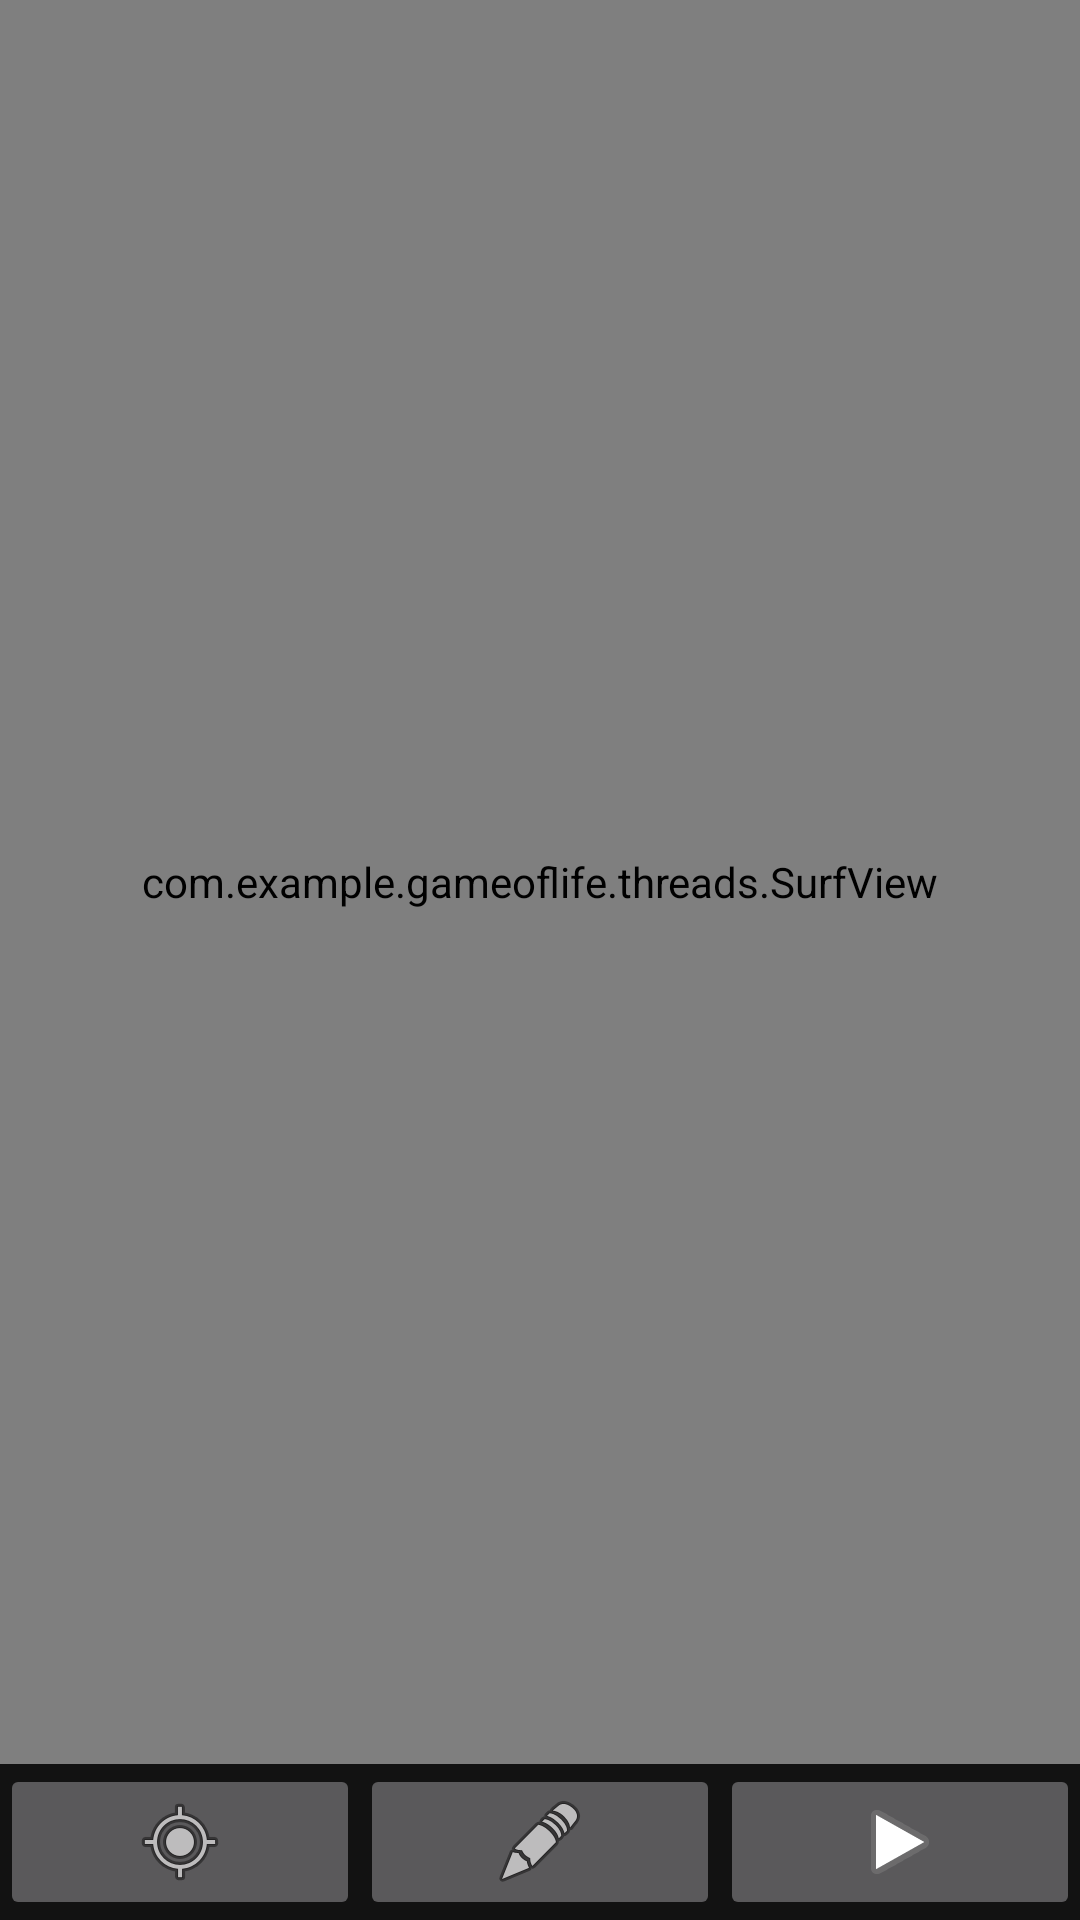

Named icons in this screenshot (1080 x 1920) and their bounding boxes, box=[x1, y1, x2, y2]:
edit: box=[372, 1782, 708, 1902]
mylocation: box=[12, 1782, 348, 1902]
play: box=[732, 1782, 1068, 1902]
